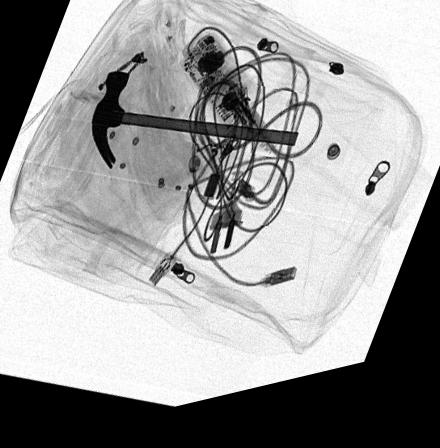Hammer: (90, 75, 298, 175)
